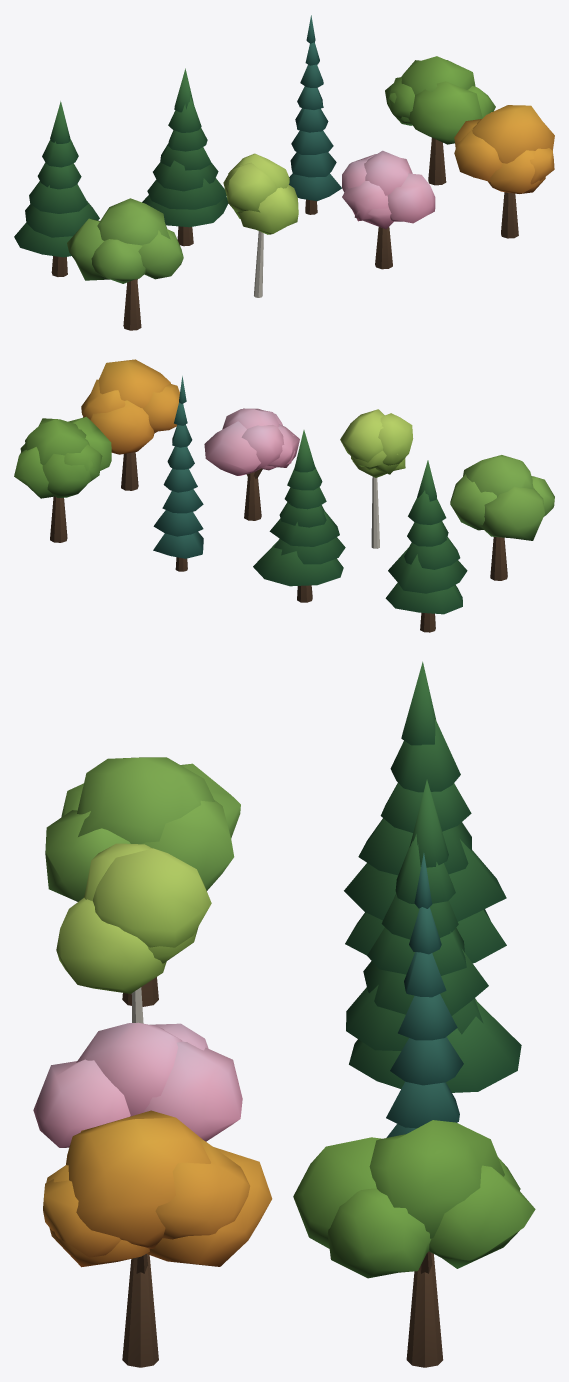
File: nature_trees.glb
3 views of the same model, one above another, from view 1: azimuth 30°, elevation 25°; view 2: azimuth 150°, elevation 25°; view 3: azimuth 270°, elevation 25° (orthographic). The views are drawn at different scales.
Parts seen in each view (by area): view 1: oak_b, autumn, pine_b, oak_a, pine_a, blossom, birch, fir; view 2: pine_b, oak_b, autumn, pine_a, oak_a, blossom, fir, birch; view 3: oak_a, autumn, pine_b, oak_b, blossom, pine_a, birch, fir.
Part boxes in pixels (x1,y1,x2,y2): oak_b: [67, 198, 183, 330]; autumn: [454, 105, 554, 238]; pine_b: [142, 68, 228, 246]; oak_a: [385, 56, 495, 185]; pine_a: [14, 101, 99, 276]; blossom: [342, 150, 435, 269]; birch: [223, 153, 298, 297]; fir: [289, 15, 341, 214]; pine_b: [253, 430, 345, 602]; oak_b: [450, 455, 554, 580]; autumn: [81, 359, 179, 490]; pine_a: [385, 460, 467, 632]; oak_a: [14, 416, 111, 542]; blossom: [204, 408, 299, 520]; fir: [153, 376, 203, 571]; birch: [340, 409, 413, 548]; oak_a: [293, 1120, 535, 1367]; autumn: [43, 1110, 272, 1367]; pine_b: [346, 779, 521, 1092]; oak_b: [45, 757, 240, 1006]; blossom: [33, 1022, 242, 1147]; pine_a: [344, 661, 506, 963]; birch: [56, 843, 211, 1023]; fir: [386, 853, 463, 1137].
Size of the model in its own units: 33.85 by 13.57 by 15.9.
